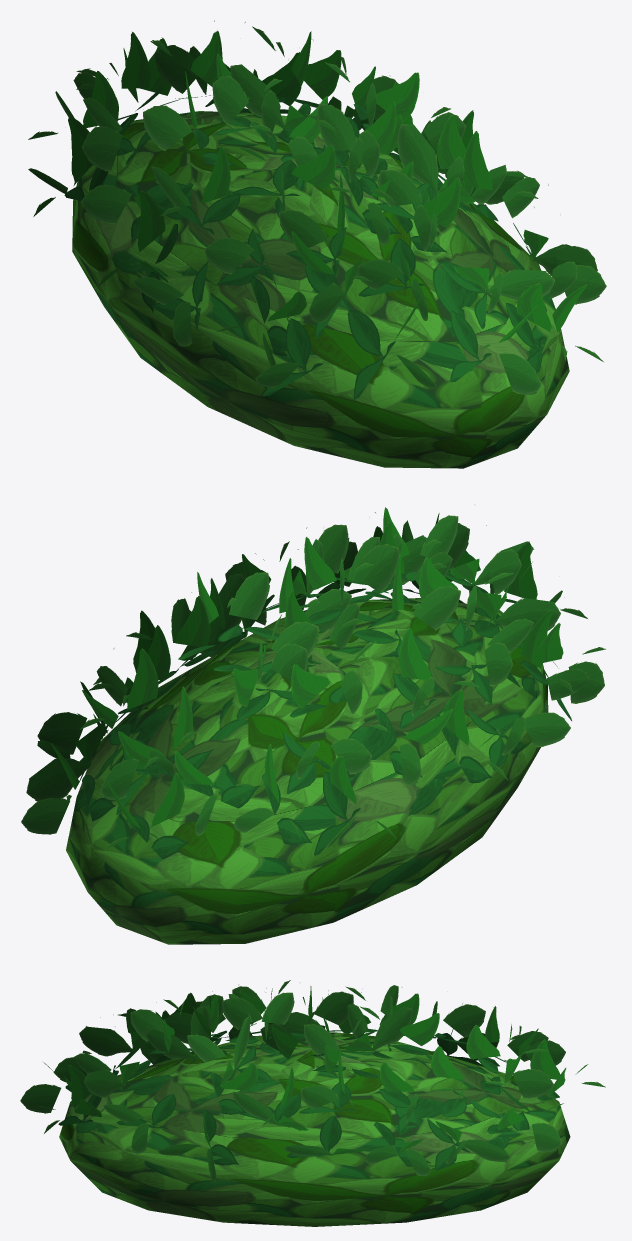
The model's file is bush_LP.fbx.
The picture shows the model from 3 angles, top to bottom: view 1: azimuth 30°, elevation 25°; view 2: azimuth 150°, elevation 25°; view 3: azimuth 270°, elevation 25°; orthographic projection. The views are drawn at different scales.
Parts seen in each view (by area): view 1: flower3:pSphere1, flower3:flower3:flower3:flower4:leaves1:polySurface1; view 2: flower3:pSphere1, flower3:flower3:flower3:flower4:leaves1:polySurface1; view 3: flower3:pSphere1, flower3:flower3:flower3:flower4:leaves1:polySurface1.
Boxes of the visible parts, x1,y1,x2,y2 form: flower3:pSphere1: (72,111,569,468); flower3:flower3:flower3:flower4:leaves1:polySurface1: (28,20,606,399); flower3:pSphere1: (66,598,548,944); flower3:flower3:flower3:flower4:leaves1:polySurface1: (21,504,605,858); flower3:pSphere1: (59,1032,570,1226); flower3:flower3:flower3:flower4:leaves1:polySurface1: (20,980,605,1182).
Bounding box in the file's own units: 0.2894 × 0.169 × 0.4927.
